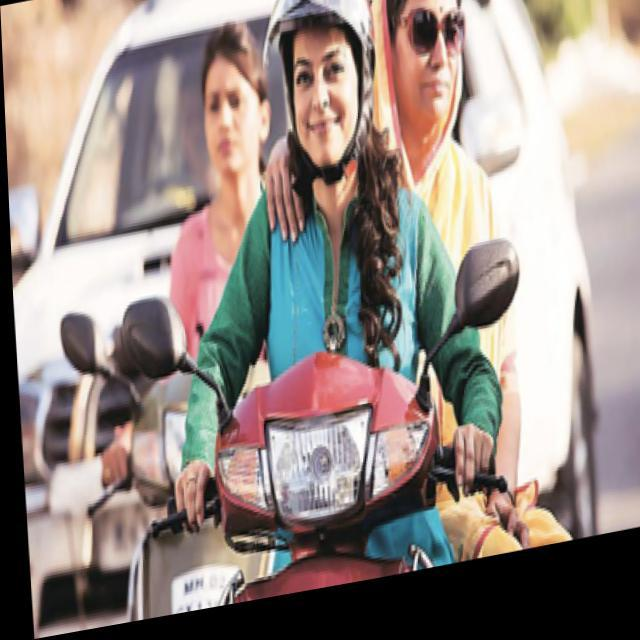Helmet: (253, 0, 384, 186)
